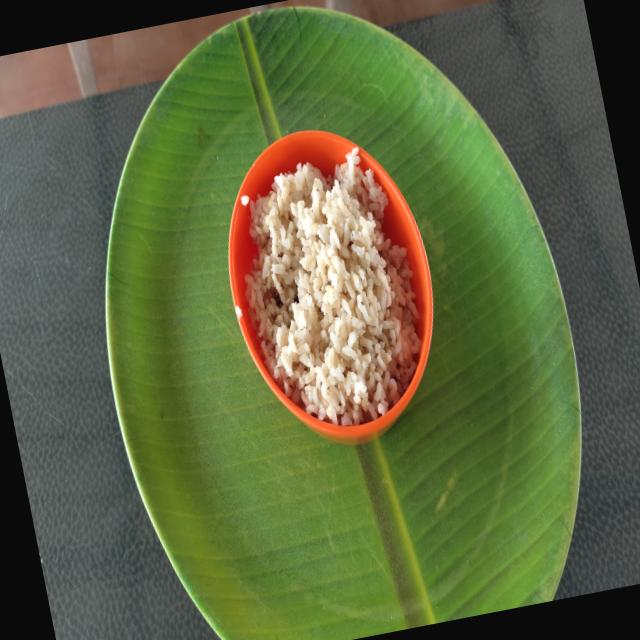brown-rice: (245, 148, 420, 427)
